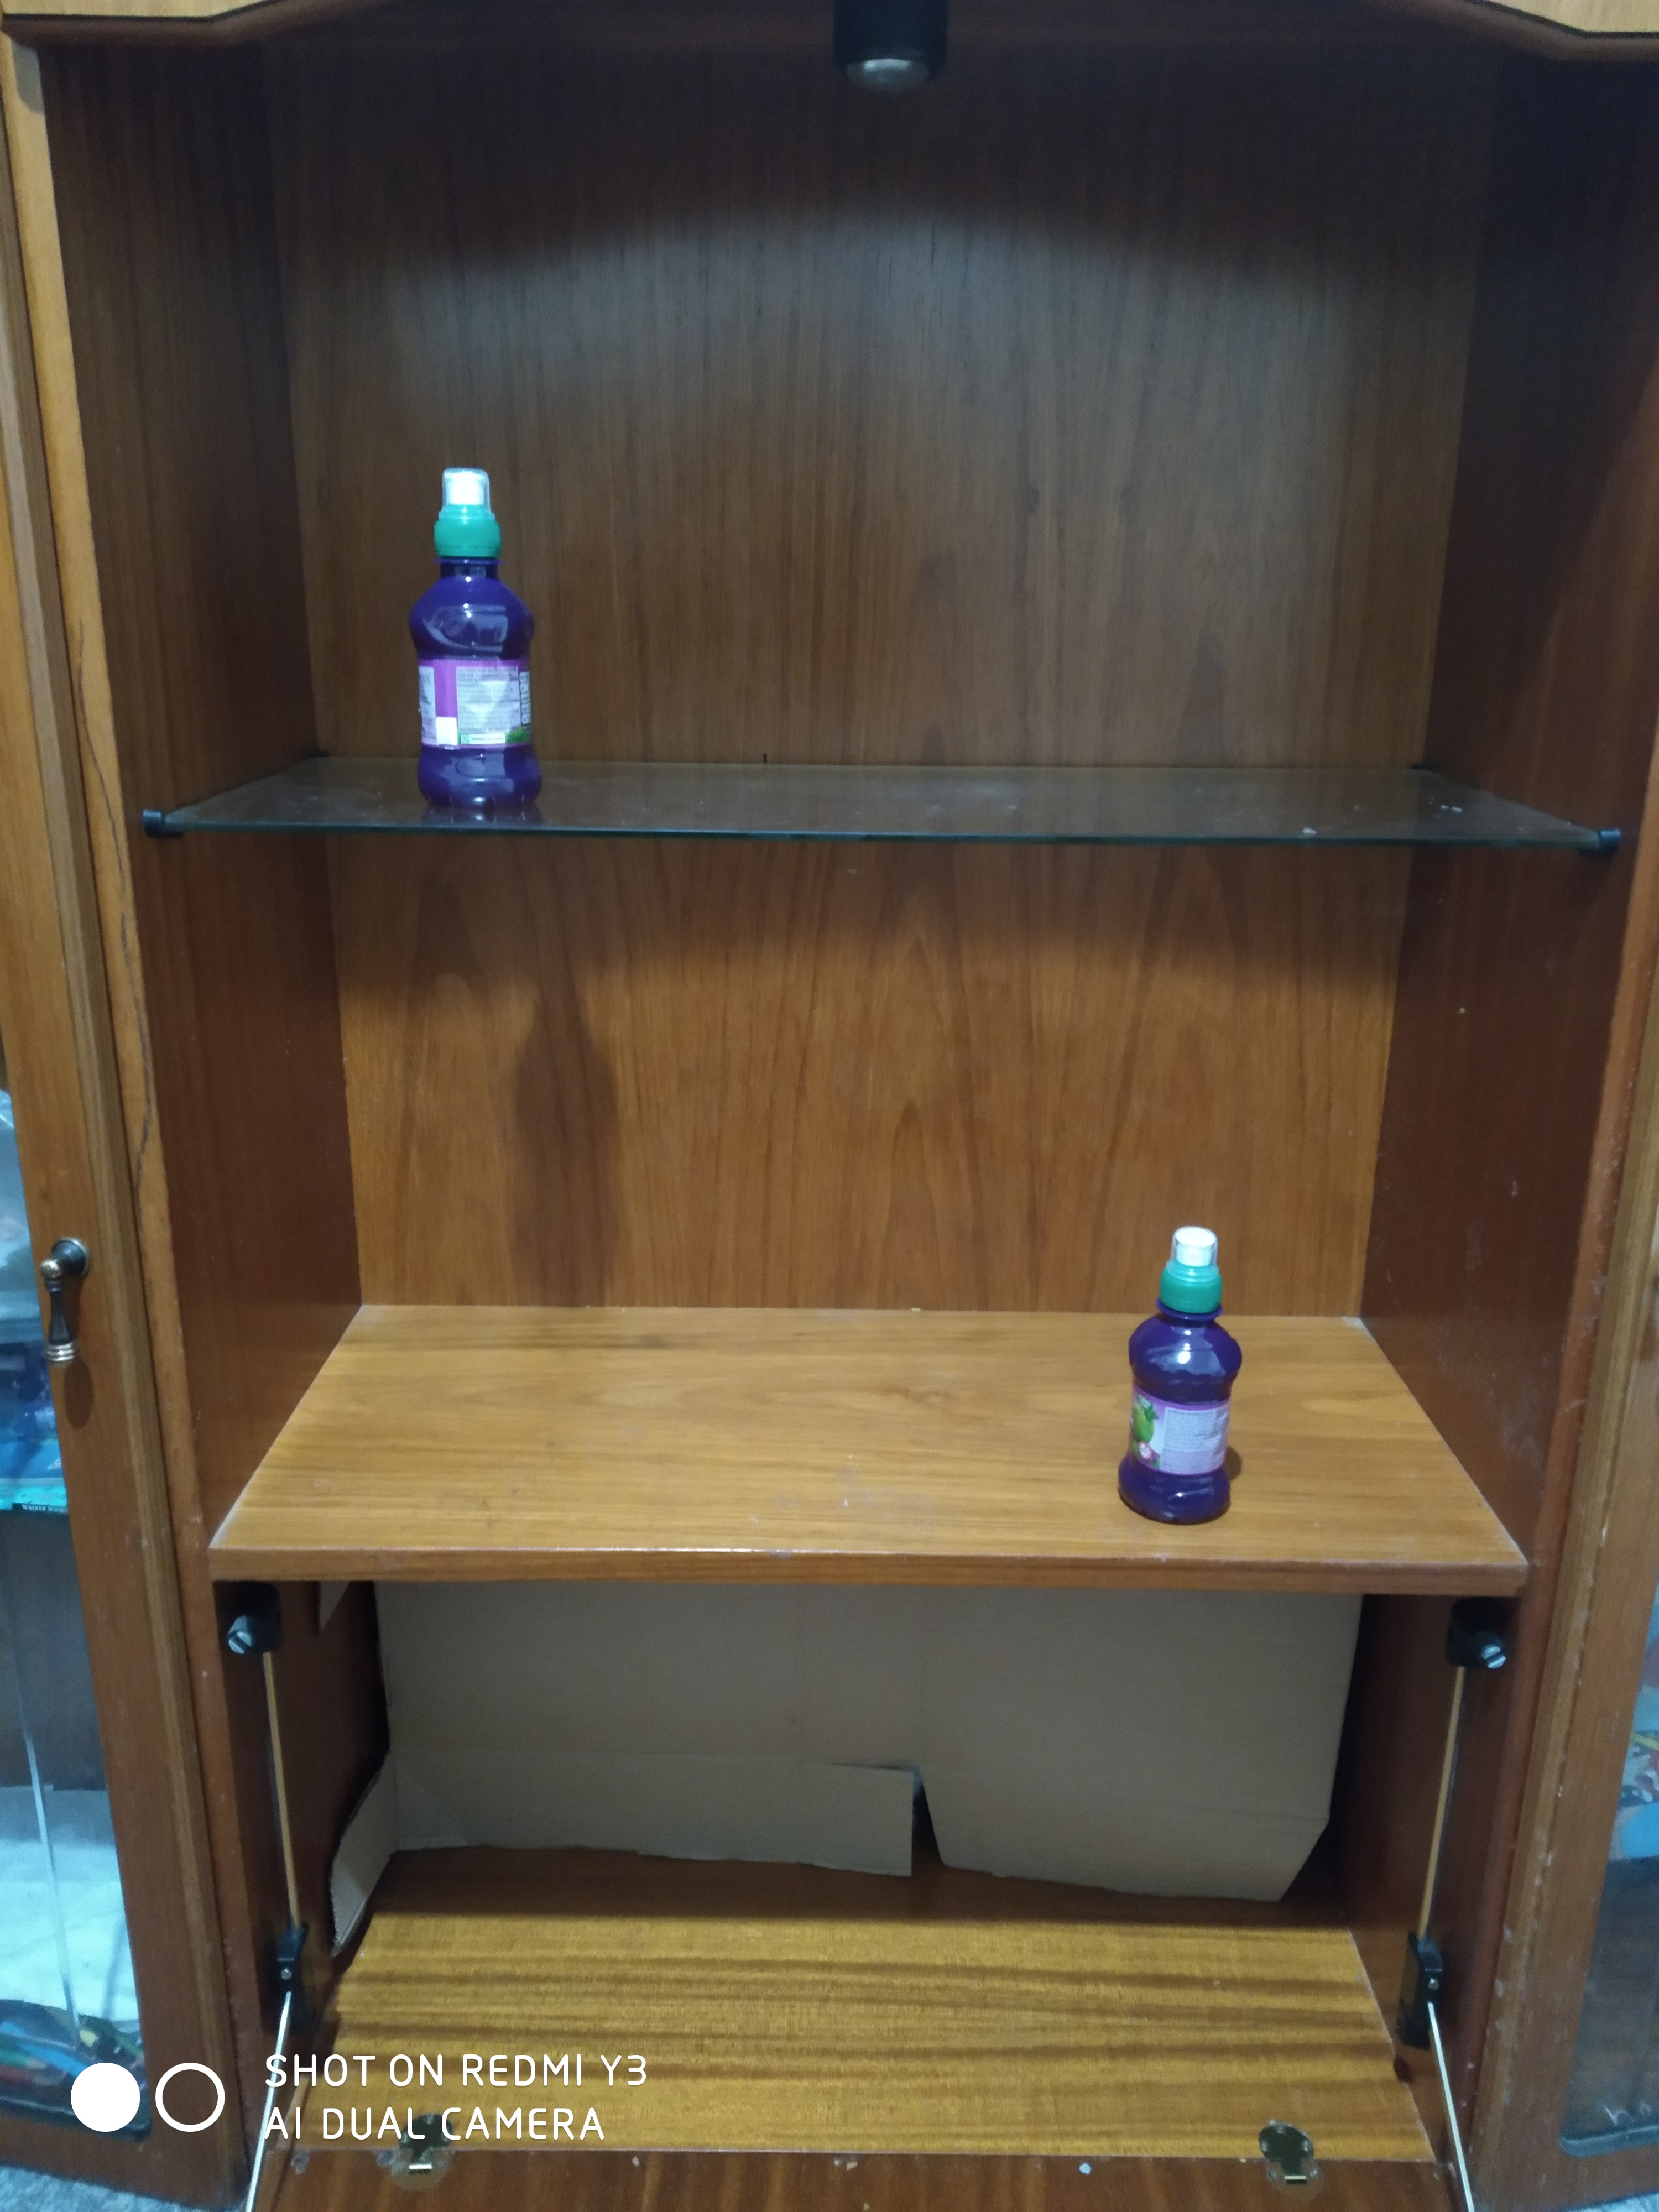blueberries: (418, 470, 549, 819)
